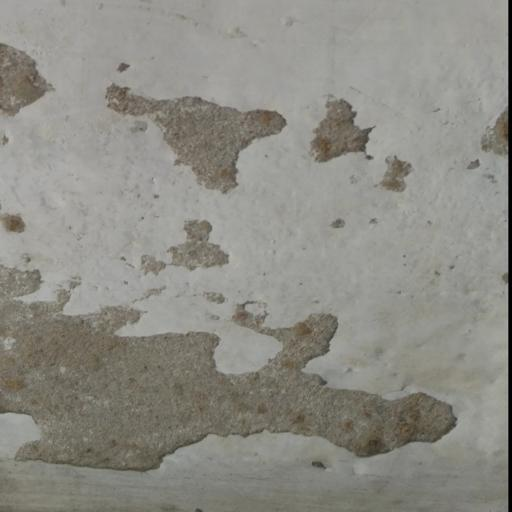peeling: (0, 244, 481, 480), (94, 46, 294, 218), (300, 78, 424, 202), (0, 30, 76, 148), (461, 91, 512, 219)
